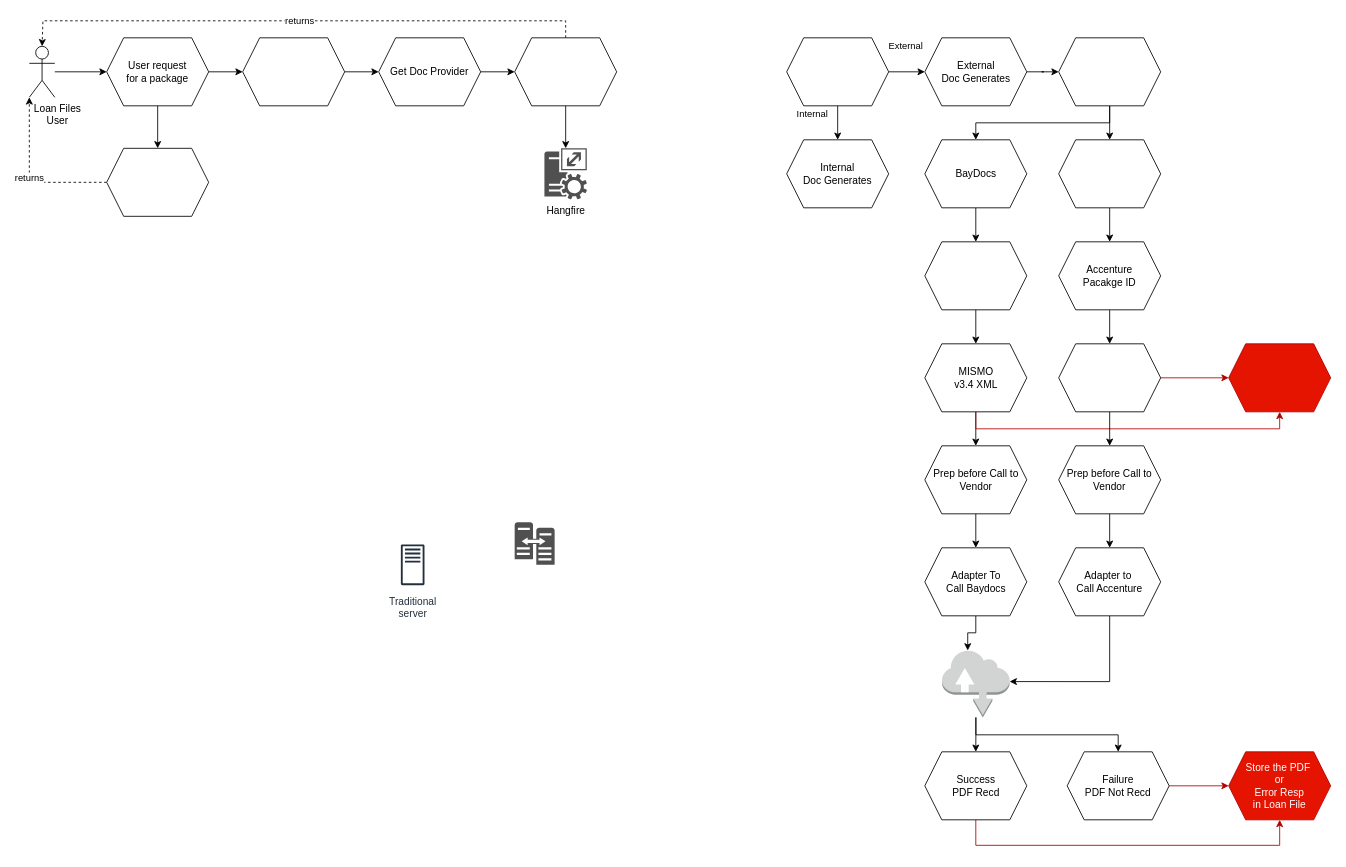
Image size: 1346x867. Some labels were removed from this diagram. Here are the shapes that lost their labels. From the top down, the box of each, then its label:
(242, 37, 345, 106): Validation Success
(514, 37, 617, 106): Enquee Job
(786, 37, 889, 106): Post Validation Doc Generates
(1058, 37, 1161, 106): Doc Provider
(106, 147, 209, 216): Validation Failed
(1058, 139, 1161, 208): Accenture Finale
(924, 241, 1027, 310): Baydocs Package ID
(1058, 343, 1161, 412): MISMO v2.6 XML
(1228, 343, 1331, 412): Store the XML In Loan File
